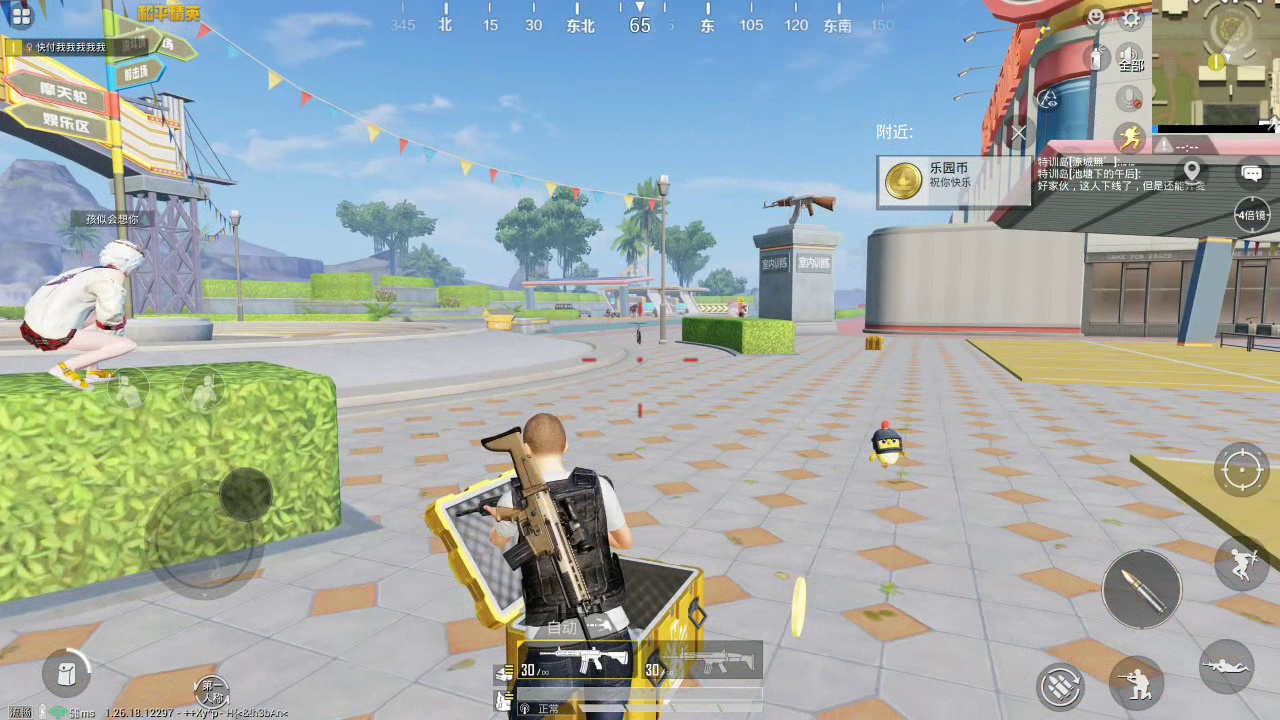enemy: (15, 239, 148, 391)
